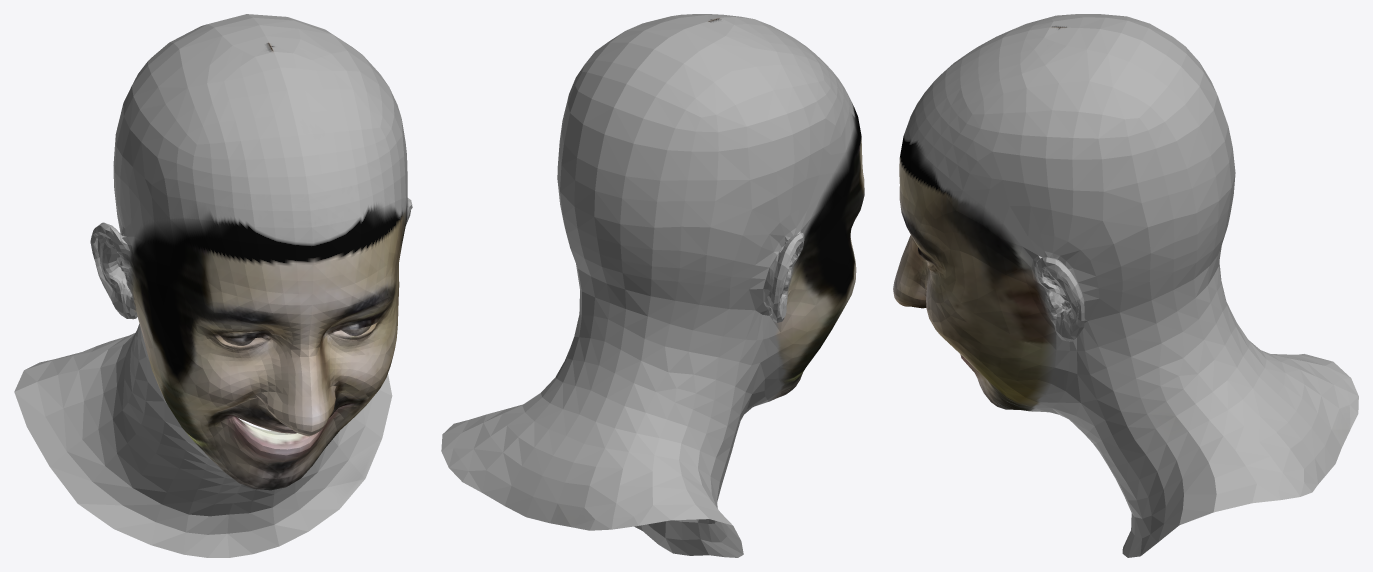
Rendered from ezgif-frame-014.obj.
3 renders of one model, left to right at view 1: azimuth 30°, elevation 25°; view 2: azimuth 150°, elevation 25°; view 3: azimuth 270°, elevation 25°, orthographic. The views are drawn at different scales.
Size of the model in its own units: 0.2066 by 0.327 by 0.27.
Materials: 1 (1 with a texture image).
